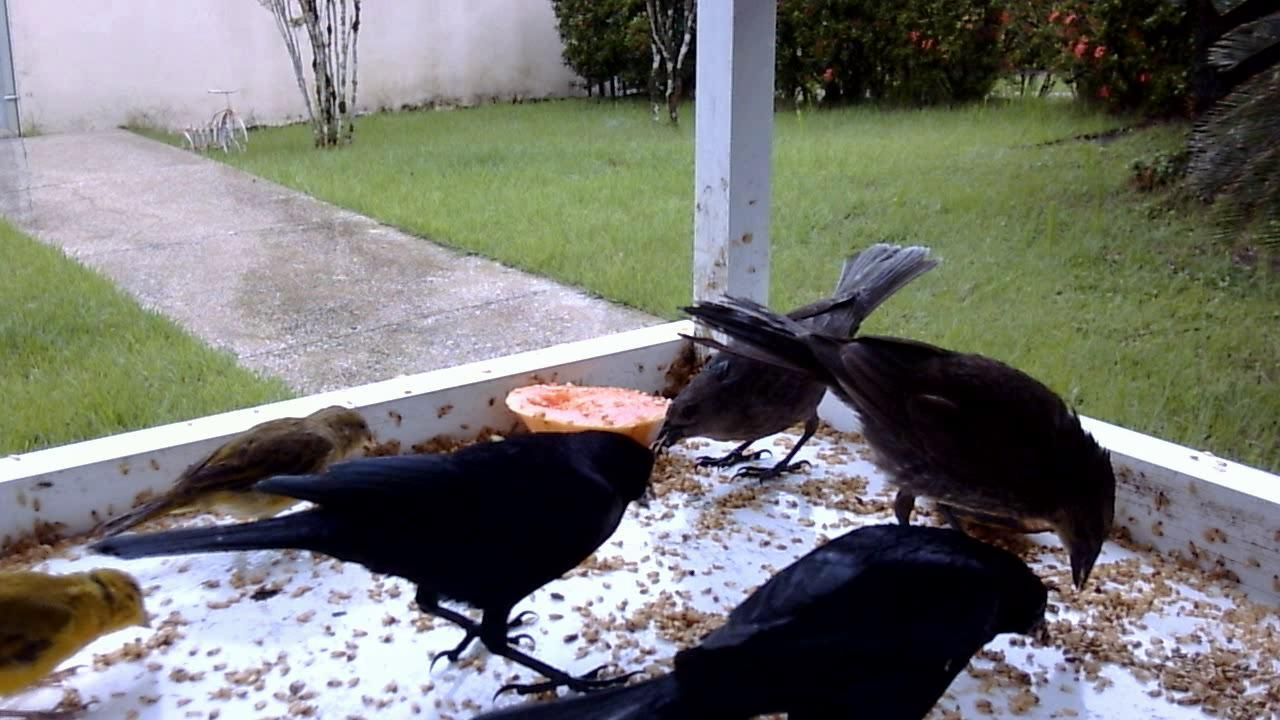canario_do_amazonas: (77, 392, 378, 562), (1, 560, 156, 716)
chupim: (649, 253, 1108, 595), (156, 403, 663, 694), (491, 482, 1045, 720), (643, 238, 940, 499)
